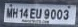character: (35, 7, 42, 18), (43, 8, 50, 19), (56, 8, 63, 19), (6, 7, 12, 18), (12, 7, 18, 18), (29, 7, 35, 18), (50, 8, 56, 19), (63, 8, 69, 19), (23, 8, 28, 18), (19, 8, 23, 18)
